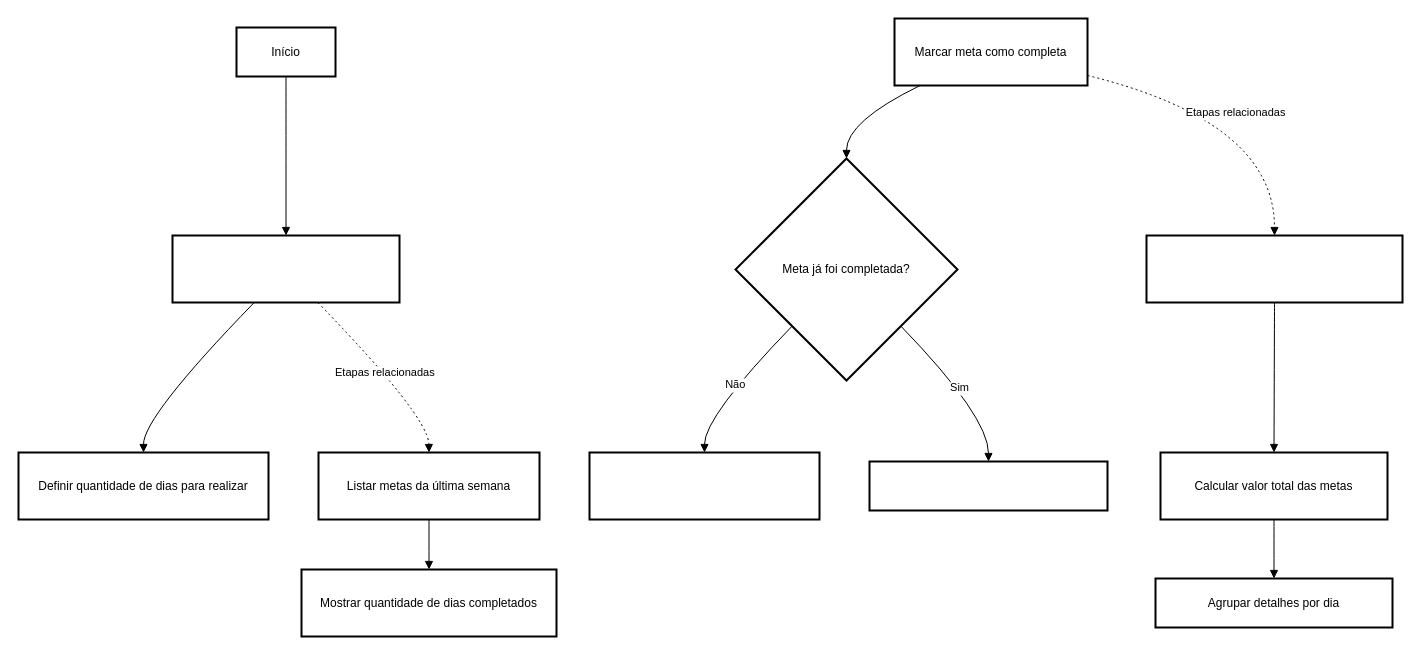
The diagram is 1420 pixels wide and 654 high, and some of its shapes have lost their labels. The centre of each missing label's shape, as x and y in pixels:
"Cadastrar metas para a semana" belongs at pixel 285 268.
"Exibir mensagem de erro" belongs at pixel 988 485.
"Gerar resumo das metas da última semana" belongs at pixel 1274 268.
"Validar e contar dias de conclusão" belongs at pixel 704 485.
